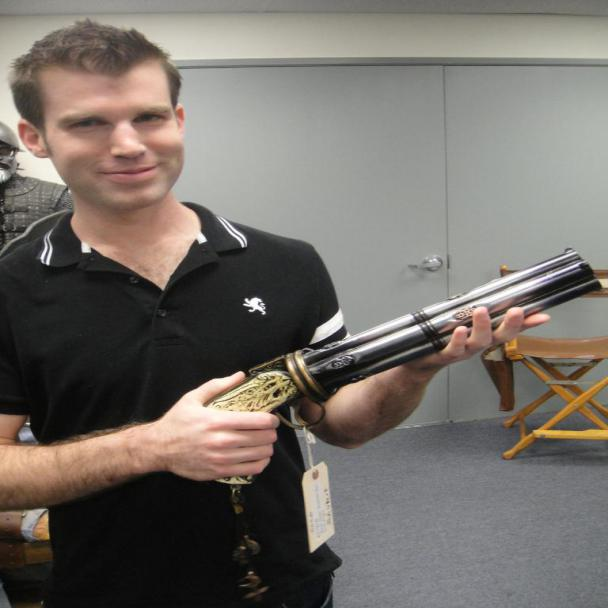Gun: (208, 226, 607, 414)
Hand: (88, 367, 303, 500), (406, 298, 552, 397)
